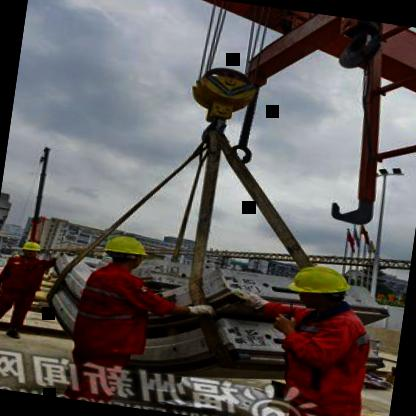helmet: (280, 259, 360, 314), (96, 230, 156, 274), (15, 237, 48, 262)
